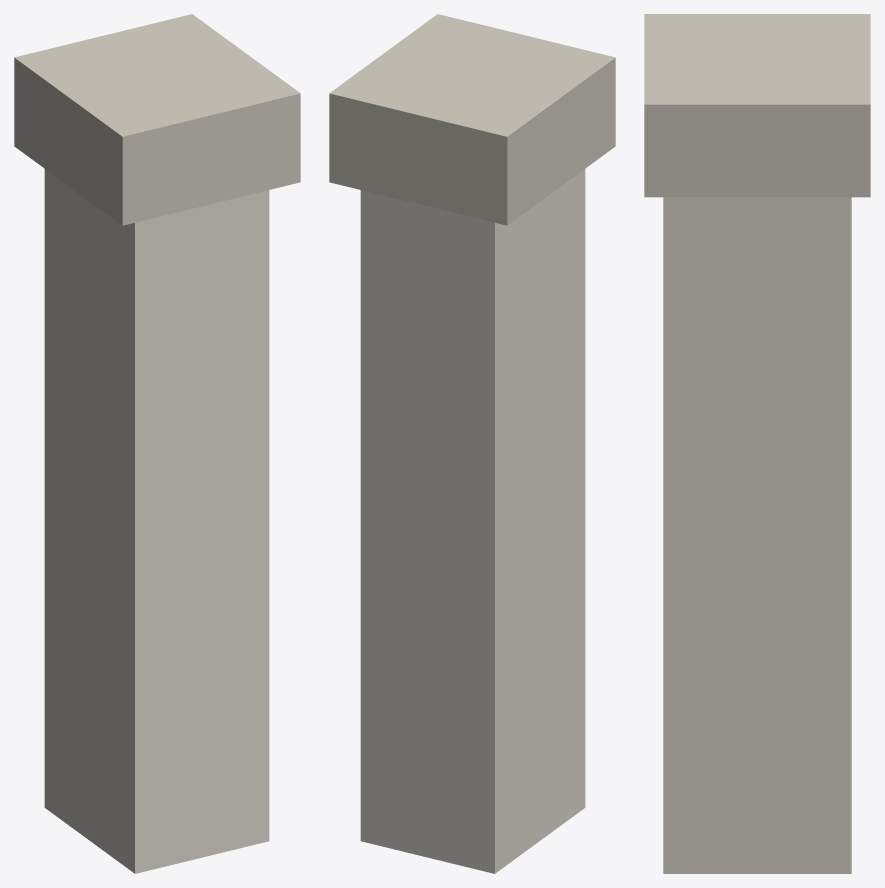
Rendered from Fence_Low_Var2_B.fbx.
3 renders of one model, left to right at view 1: azimuth 30°, elevation 25°; view 2: azimuth 150°, elevation 25°; view 3: azimuth 270°, elevation 25°, orthographic. The views are drawn at different scales.
Visible parts, largest first — view 1: Fence_Low_Var2_B; view 2: Fence_Low_Var2_B; view 3: Fence_Low_Var2_B.
Boxes of the visible parts, x1,y1,x2,y2 form: Fence_Low_Var2_B: (14, 14, 300, 873); Fence_Low_Var2_B: (329, 14, 615, 873); Fence_Low_Var2_B: (644, 14, 870, 873).
Size of the model in its own units: 19.9 by 79.98 by 21.
